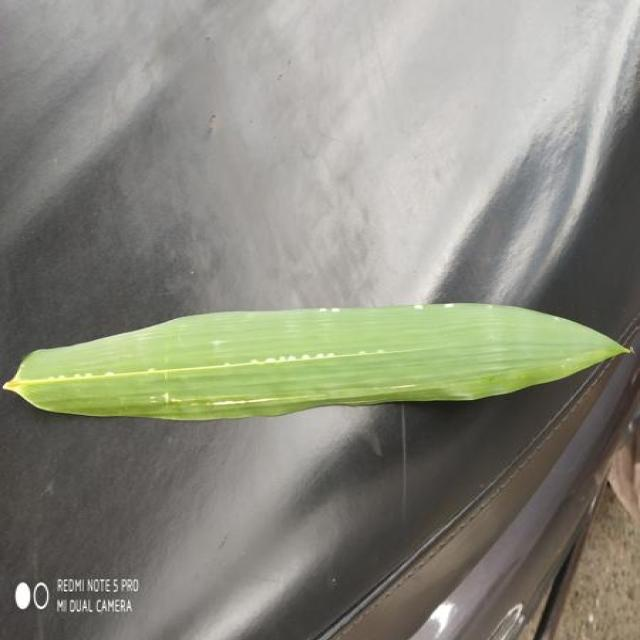Bamboo: (5, 304, 628, 420)
